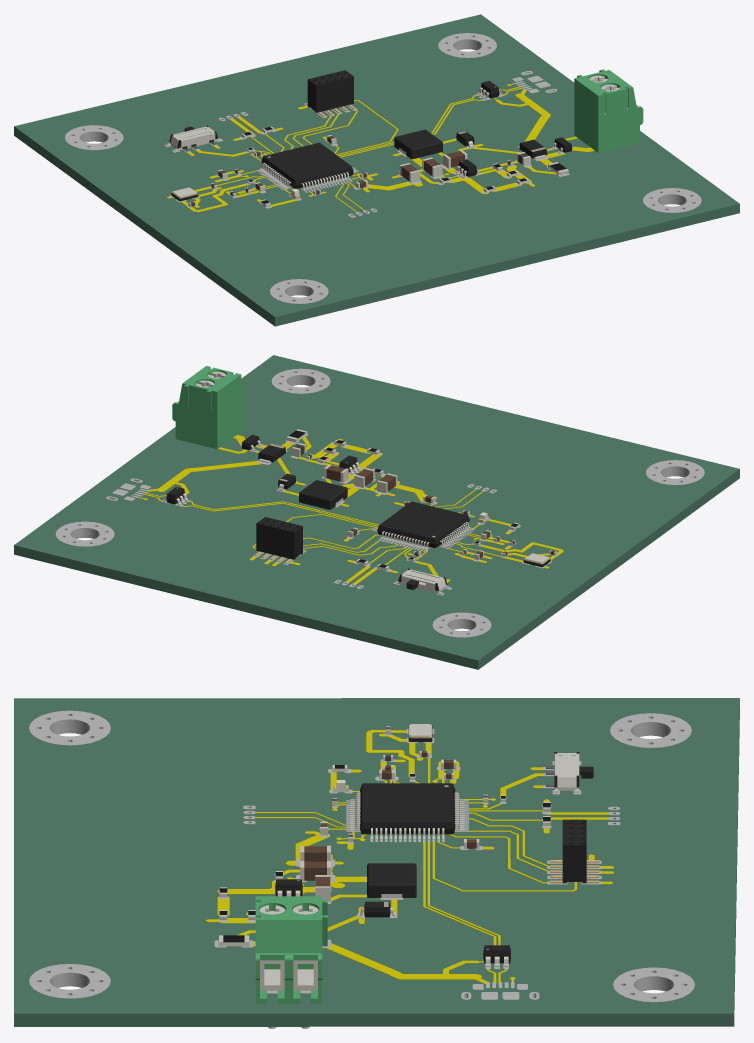
Rendered from power-supply.glb.
3 views of the same model, one above another, from view 1: azimuth 30°, elevation 25°; view 2: azimuth 150°, elevation 25°; view 3: azimuth 270°, elevation 25° (orthographic). The views are drawn at different scales.
Visible parts, largest first — view 1: =>[0:1:1:49], =>[0:1:1:47], =>[0:1:1:46], =>[0:1:1:43], =>[0:1:1:17], =>[0:1:1:35], =>[0:1:1:25], =>[0:1:1:45]; view 2: =>[0:1:1:49], =>[0:1:1:47], =>[0:1:1:46], =>[0:1:1:43], =>[0:1:1:17], =>[0:1:1:35], =>[0:1:1:25], =>[0:1:1:45]; view 3: =>[0:1:1:49], =>[0:1:1:47], =>[0:1:1:46], =>[0:1:1:43], =>[0:1:1:17], =>[0:1:1:35], =>[0:1:1:25], =>[0:1:1:45], =>[0:1:1:3].
Boxes of the visible parts, x1,y1,x2,y2 form: =>[0:1:1:49]: (14, 14, 739, 326); =>[0:1:1:47]: (65, 33, 701, 303); =>[0:1:1:46]: (167, 83, 594, 212); =>[0:1:1:43]: (574, 69, 643, 152); =>[0:1:1:17]: (258, 142, 356, 191); =>[0:1:1:35]: (306, 70, 355, 116); =>[0:1:1:25]: (394, 129, 442, 159); =>[0:1:1:45]: (166, 125, 220, 151); =>[0:1:1:49]: (14, 355, 739, 669); =>[0:1:1:47]: (55, 368, 704, 637); =>[0:1:1:46]: (139, 434, 563, 584); =>[0:1:1:43]: (172, 366, 241, 449); =>[0:1:1:17]: (374, 501, 472, 550); =>[0:1:1:35]: (255, 517, 304, 563); =>[0:1:1:25]: (299, 480, 347, 509); =>[0:1:1:45]: (395, 568, 449, 594); =>[0:1:1:49]: (14, 698, 739, 1026); =>[0:1:1:47]: (29, 710, 694, 1002); =>[0:1:1:46]: (206, 730, 614, 984); =>[0:1:1:43]: (255, 896, 327, 1028); =>[0:1:1:17]: (350, 783, 464, 839); =>[0:1:1:35]: (550, 819, 599, 883); =>[0:1:1:25]: (367, 863, 416, 897); =>[0:1:1:45]: (546, 752, 593, 792); =>[0:1:1:3]: (483, 945, 510, 966).
Bounding box in the file's own units: 0.0784 × 0.0137 × 0.0762.
